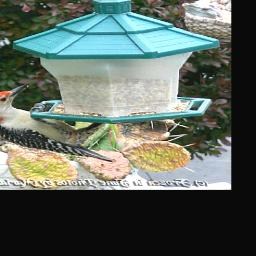Woodpecker: (0, 84, 117, 162)
